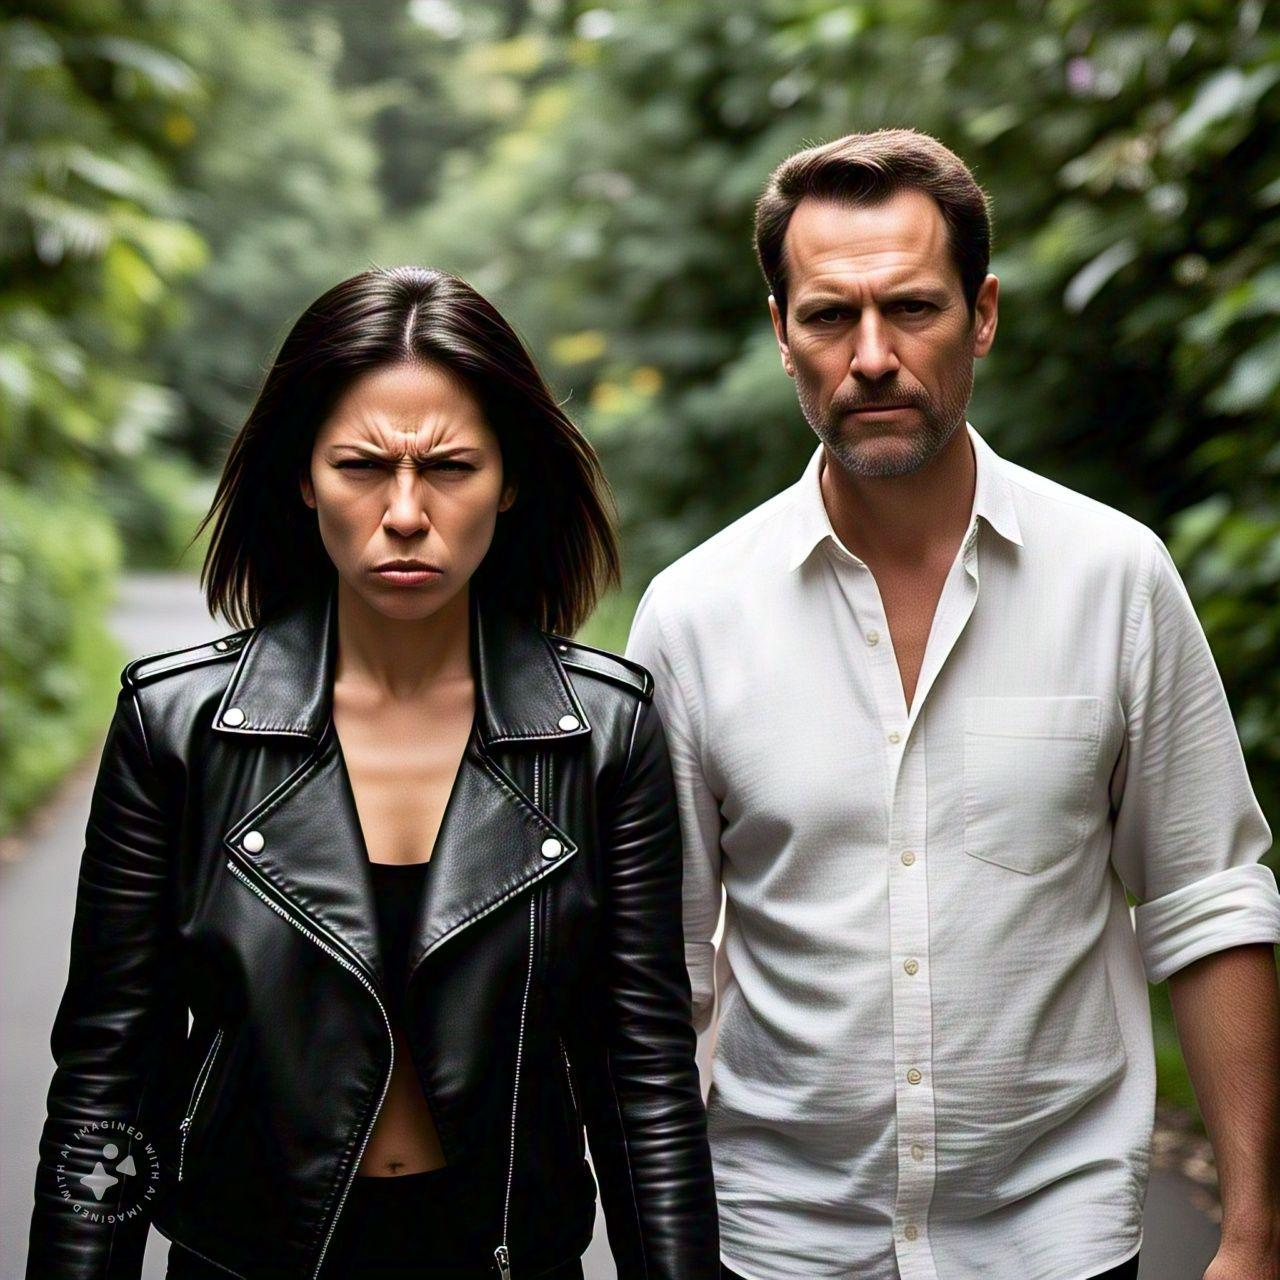normal: (783, 173, 972, 475)
raiva: (298, 353, 516, 632)
